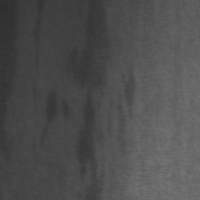inclusion: (70, 0, 115, 191), (0, 0, 22, 151), (36, 82, 71, 158), (117, 58, 146, 125), (27, 0, 48, 77)
